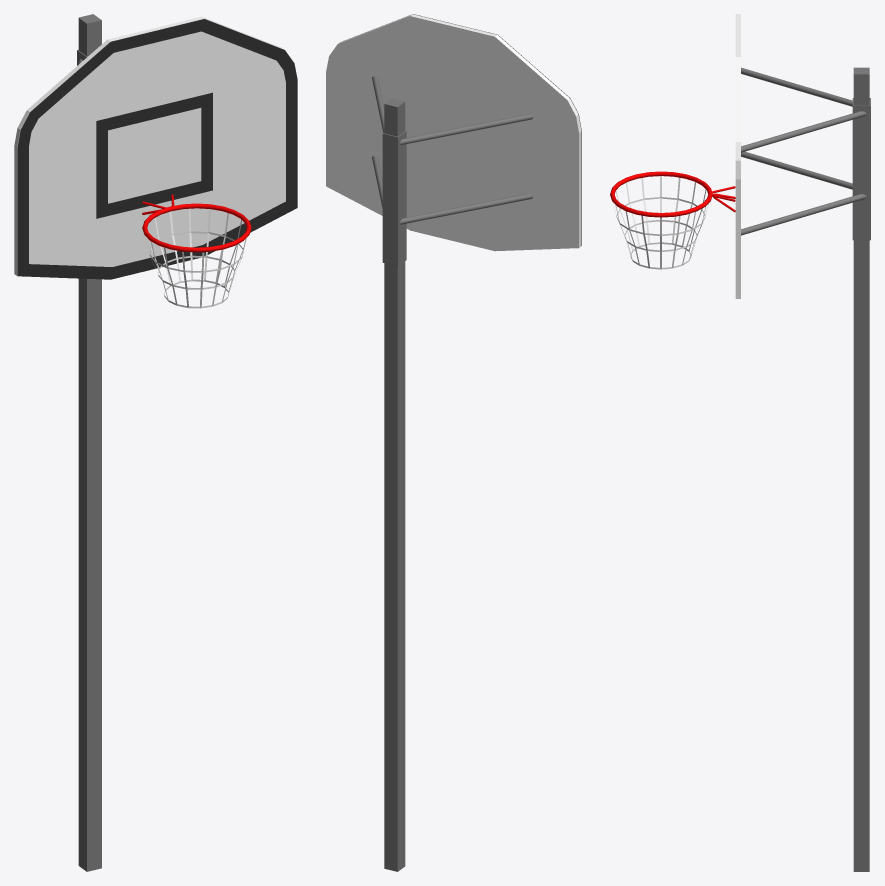
The model's file is basket 3D.fbx.
3 views of the same model, side by side, from view 1: azimuth 30°, elevation 25°; view 2: azimuth 150°, elevation 25°; view 3: azimuth 270°, elevation 25° (orthographic). The views are drawn at different scales.
Parts seen in each view (by area): view 1: G_8000658_dwg1, Composant_2, Composant_11, Composant_1; view 2: G_8000658_dwg1, Composant_2, Composant_3, Composant_11, Composant_7, Composant_6; view 3: Composant_2, G_8000658_dwg1, Composant_3, Composant_11, Composant_1, Composant_8, Composant_9, Composant_6, Composant_7.
Part boxes in pixels (x1,y1,x2,y2): G_8000658_dwg1: (14, 16, 297, 308); Composant_2: (78, 14, 101, 783); Composant_11: (78, 778, 101, 871); Composant_1: (142, 203, 251, 252); G_8000658_dwg1: (326, 14, 581, 251); Composant_2: (384, 98, 405, 792); Composant_3: (382, 130, 406, 266); Composant_11: (384, 787, 405, 871); Composant_7: (400, 193, 532, 224); Composant_6: (400, 114, 532, 144); Composant_2: (853, 67, 869, 788); G_8000658_dwg1: (613, 14, 740, 298); Composant_3: (852, 98, 870, 240); Composant_11: (853, 789, 869, 871); Composant_1: (610, 171, 712, 217); Composant_8: (741, 111, 866, 152); Composant_9: (741, 194, 866, 235); Composant_6: (741, 67, 852, 106); Composant_7: (741, 151, 852, 189).
Size of the model in its own units: 1.2 by 3.62 by 1.03.
